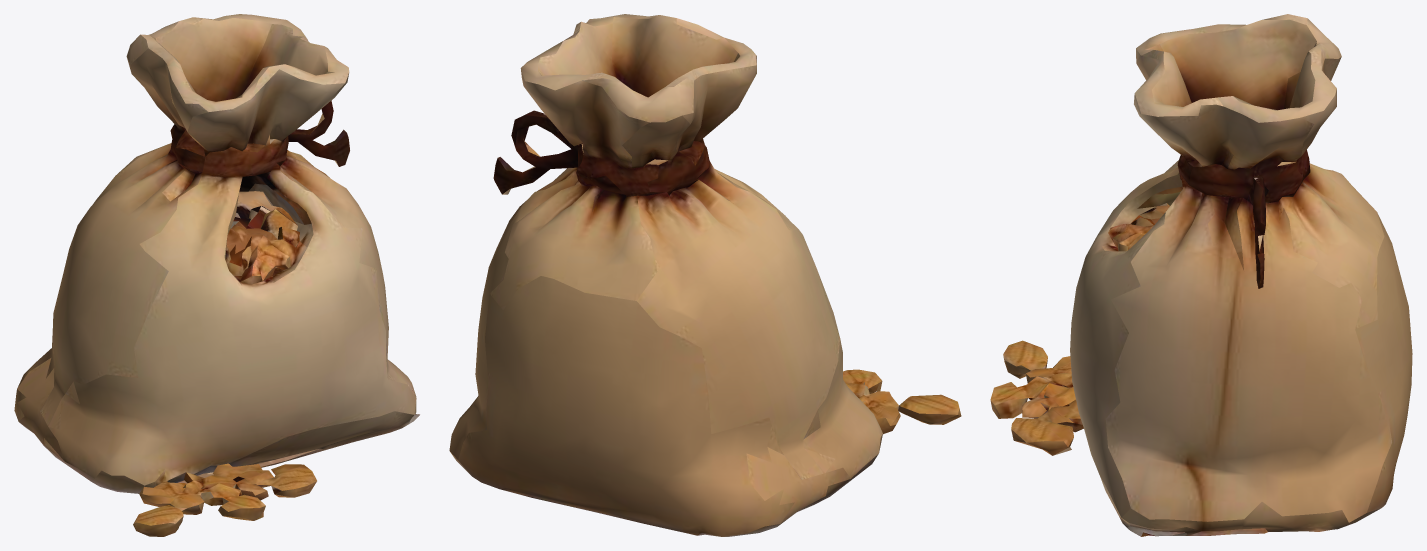
The model's file is feed.glb.
The picture shows the model from 3 angles, left to right: view 1: azimuth 30°, elevation 25°; view 2: azimuth 150°, elevation 25°; view 3: azimuth 270°, elevation 25°; orthographic projection. The views are drawn at different scales.
Visible parts, largest first — view 1: feed; view 2: feed; view 3: feed.
Boxes of the visible parts, bbox=[...] form: feed: bbox=[14, 14, 419, 536]; feed: bbox=[449, 14, 961, 536]; feed: bbox=[990, 14, 1412, 536].
Size of the model in its own units: 0.9392 by 1 by 0.9179.
1 material, 1 textured.
